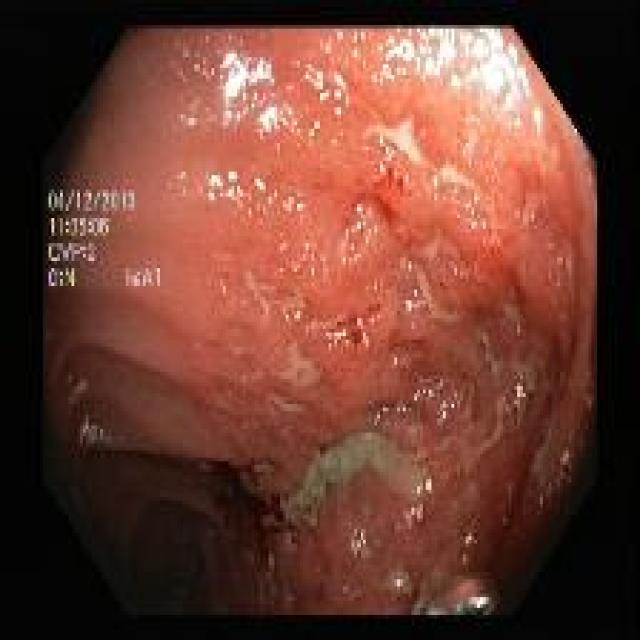ulcerative-colitis: (46, 30, 595, 612)
